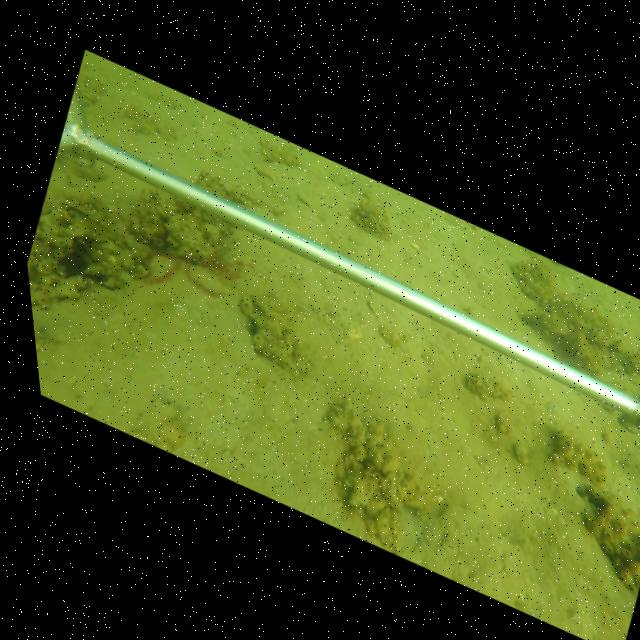Oyster-Closed: (81, 264, 110, 281)
